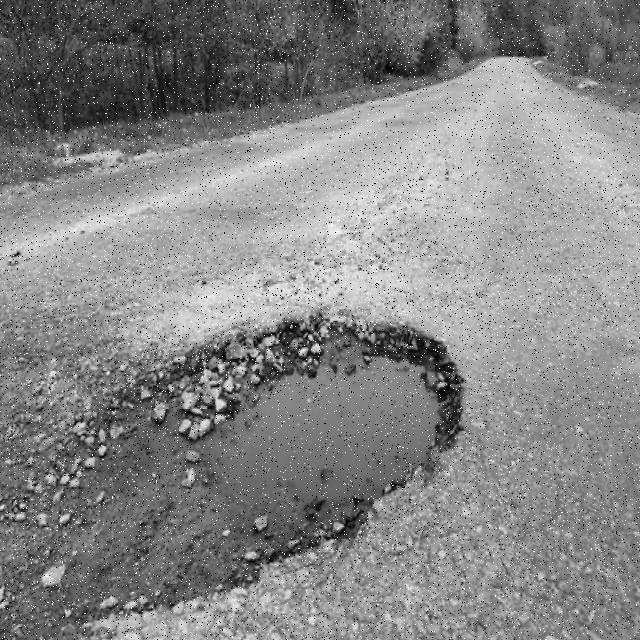pothole: (15, 312, 464, 619)
